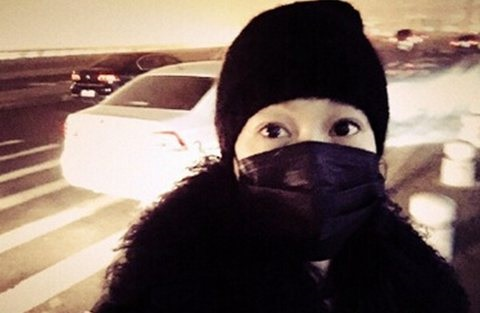face_mask: (237, 94, 377, 233)
